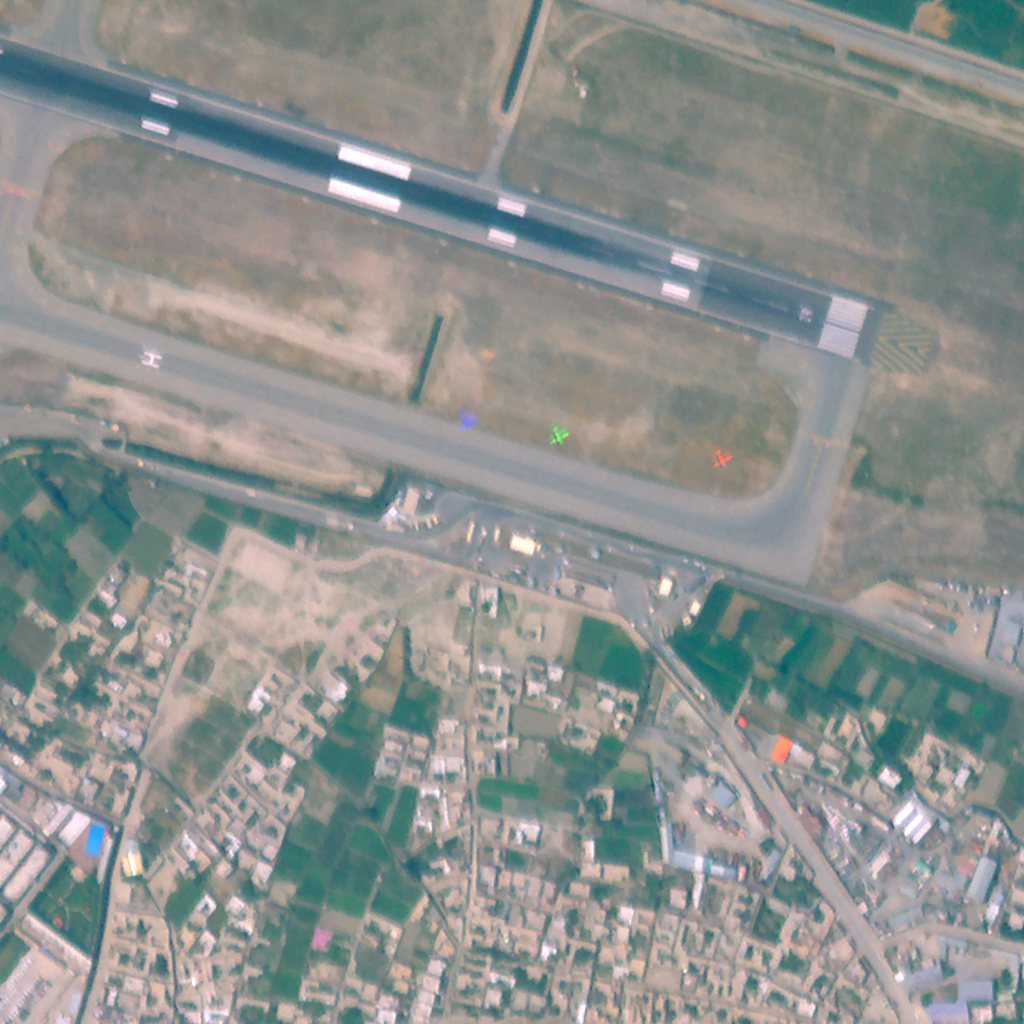plane: (711, 446, 737, 472), (544, 424, 574, 446)
